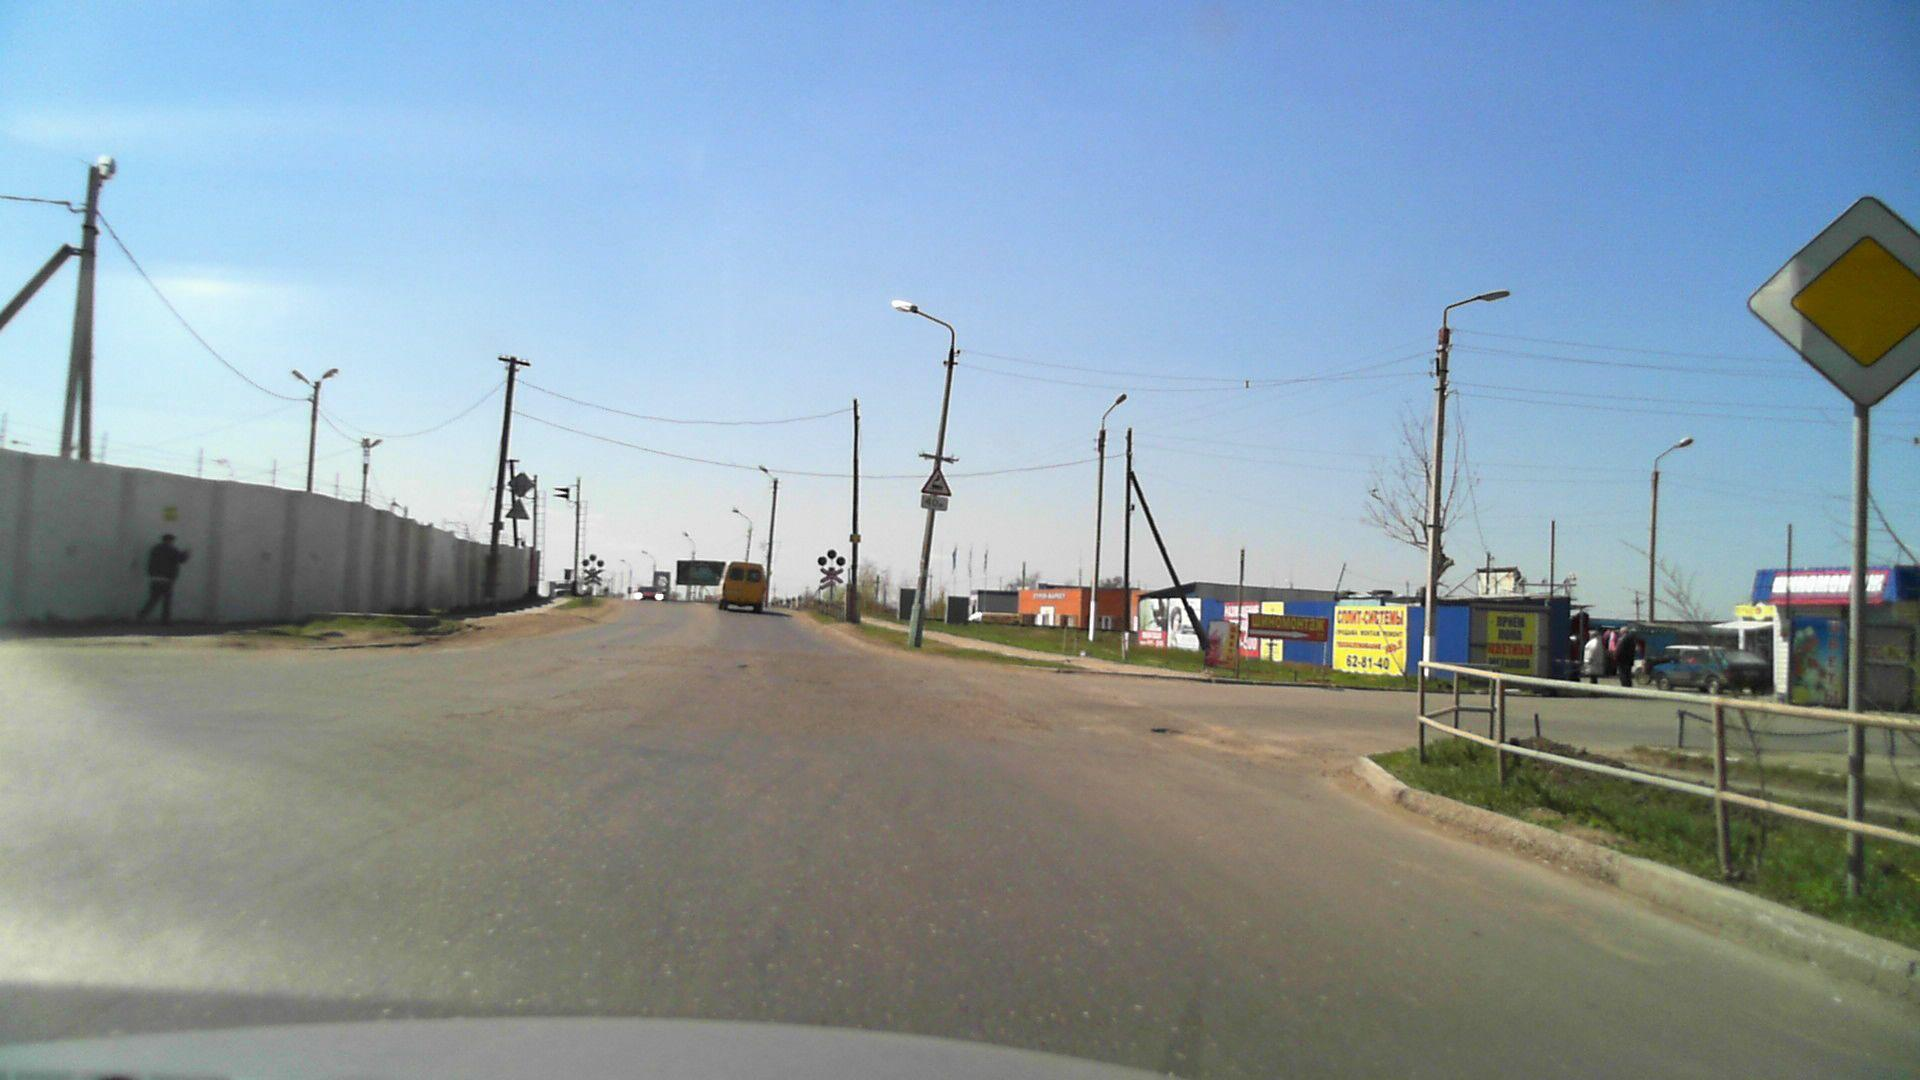1_2: (922, 467, 953, 496)
1_3_2: (819, 566, 845, 589)
2_1: (1737, 190, 1920, 421)
8_1_1: (919, 495, 949, 510)
